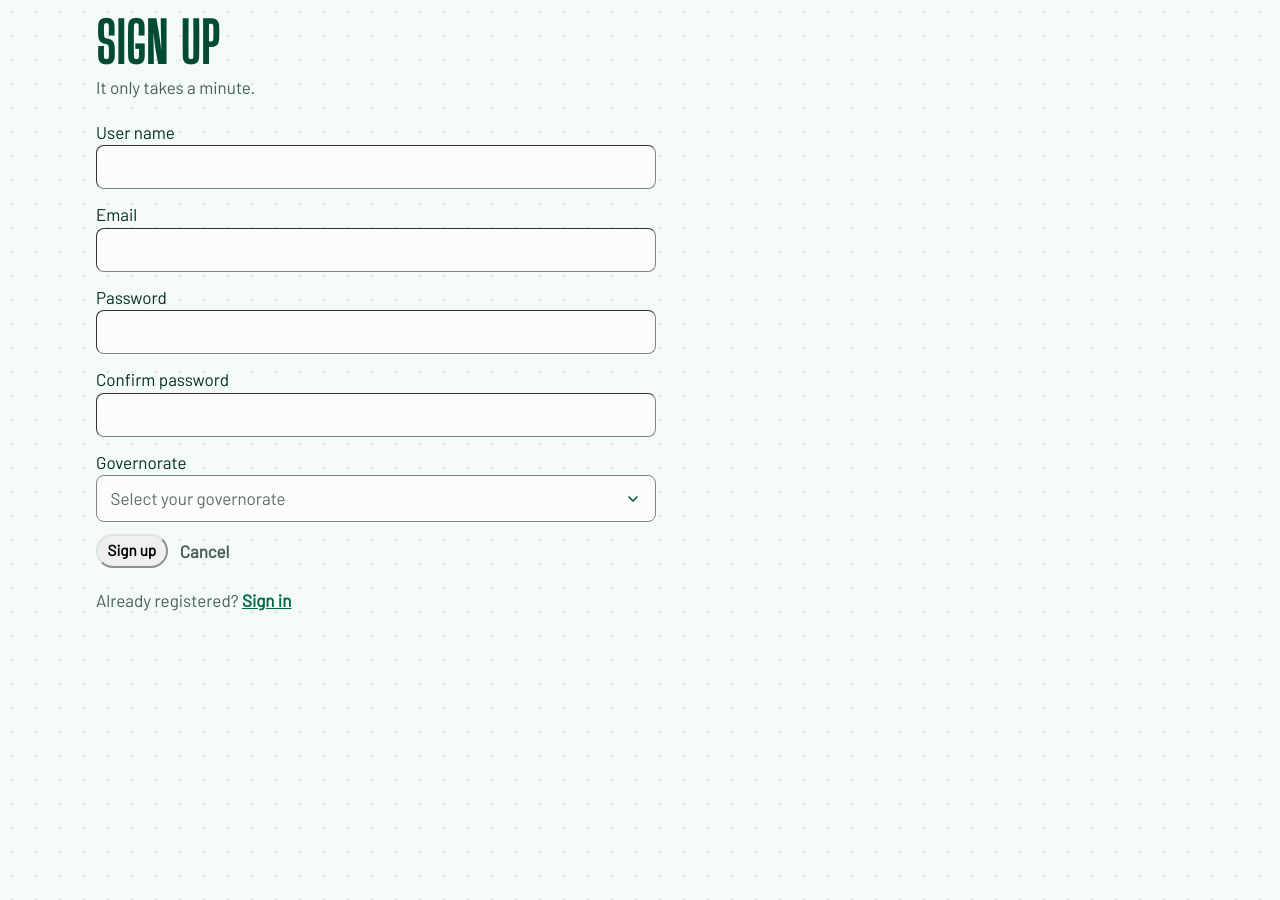
Test: backend-compatible authentication forms › checks confirmation before issuing a signup request
Type "Bob" into the field labelled "User name".
click(376, 168); type("Bob")  # box [96,146,656,190]
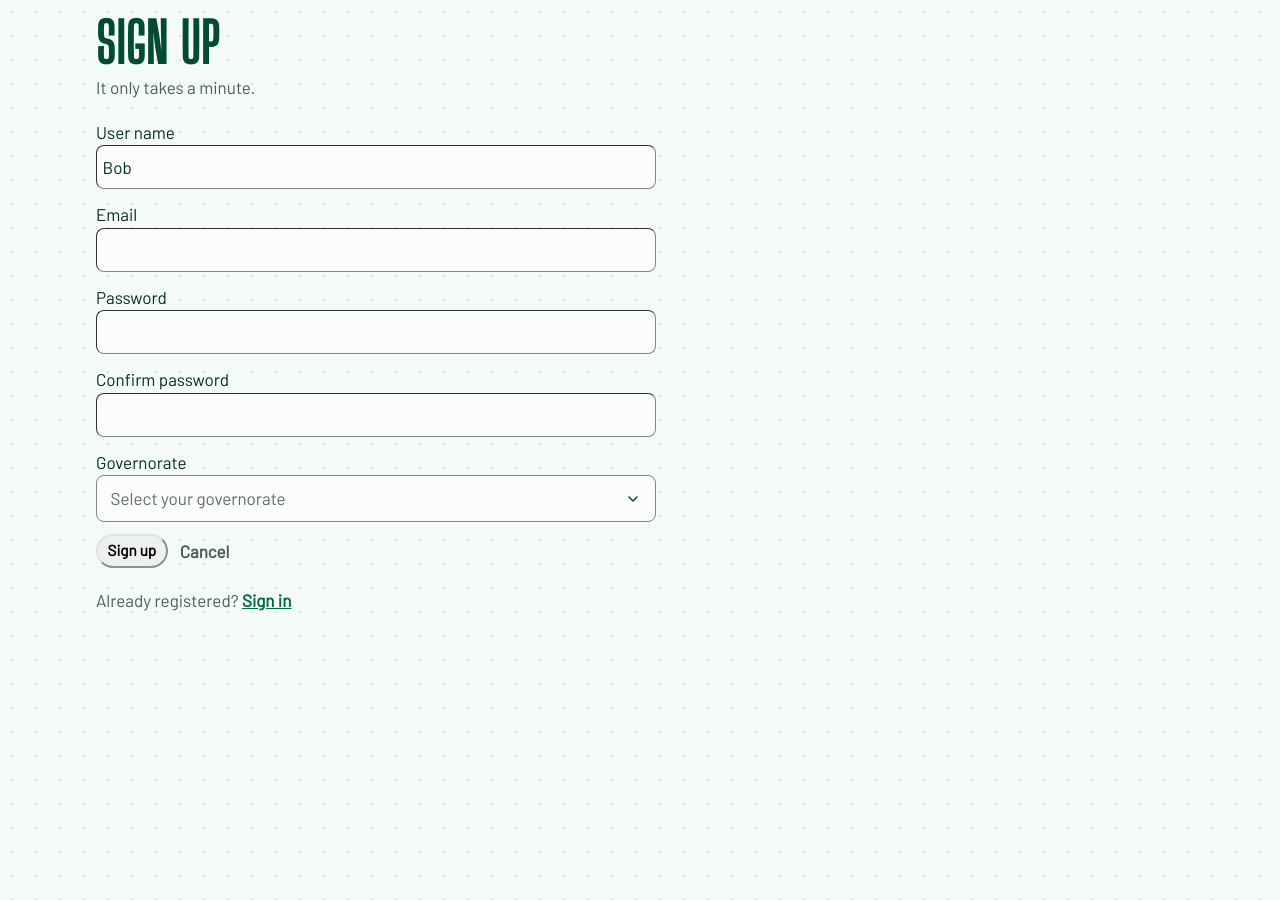
Type "bob@example.test" into the field labelled "Email".
click(376, 250); type("bob@example.test")  # box [96,228,656,272]
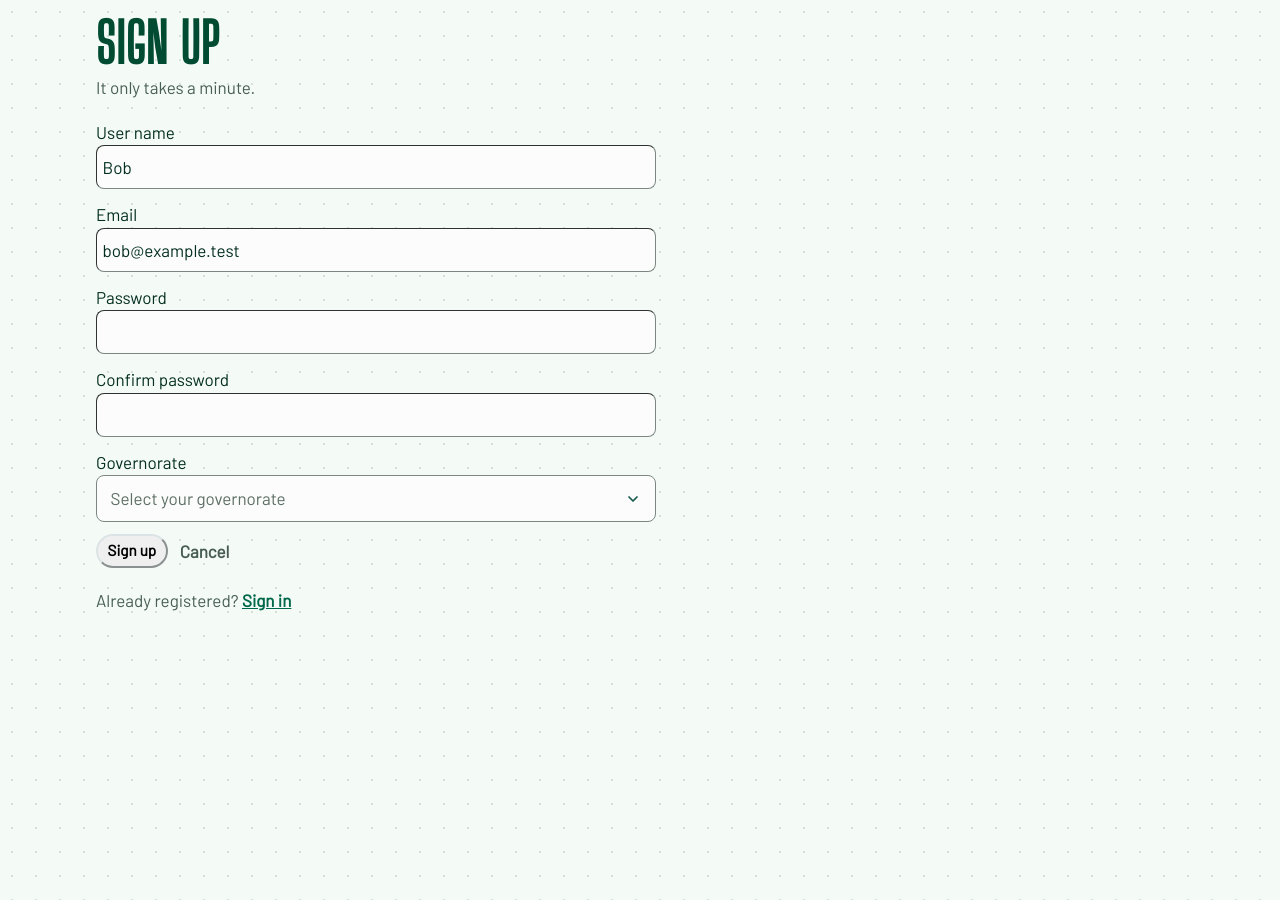
Type "TestPass123!" into the password field labelled "Password".
click(376, 332); type("TestPass123!")  # box [96,310,656,354]
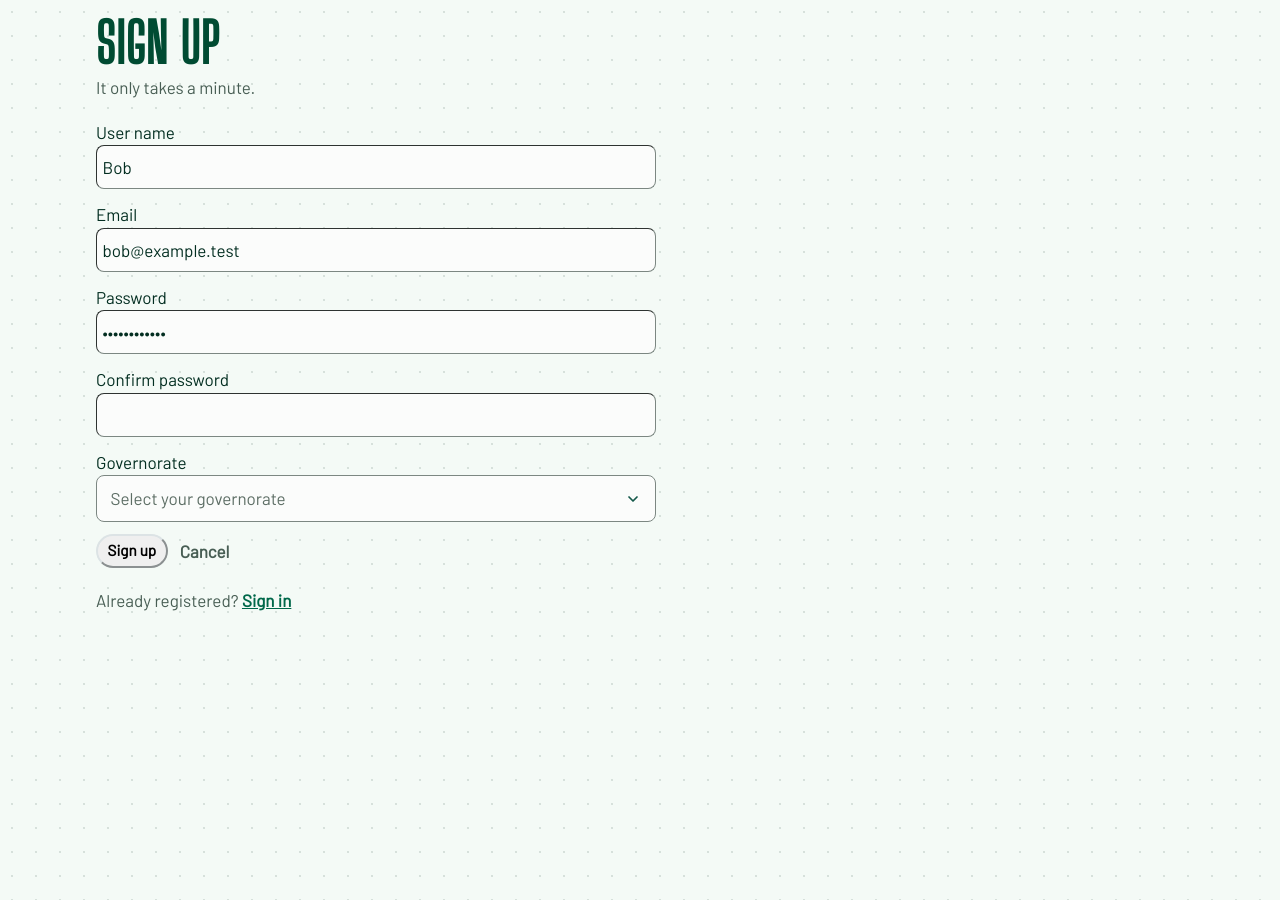
Type "Different123!" into the password field labelled "Confirm password".
click(376, 414); type("Different123!")  # box [96,392,656,436]
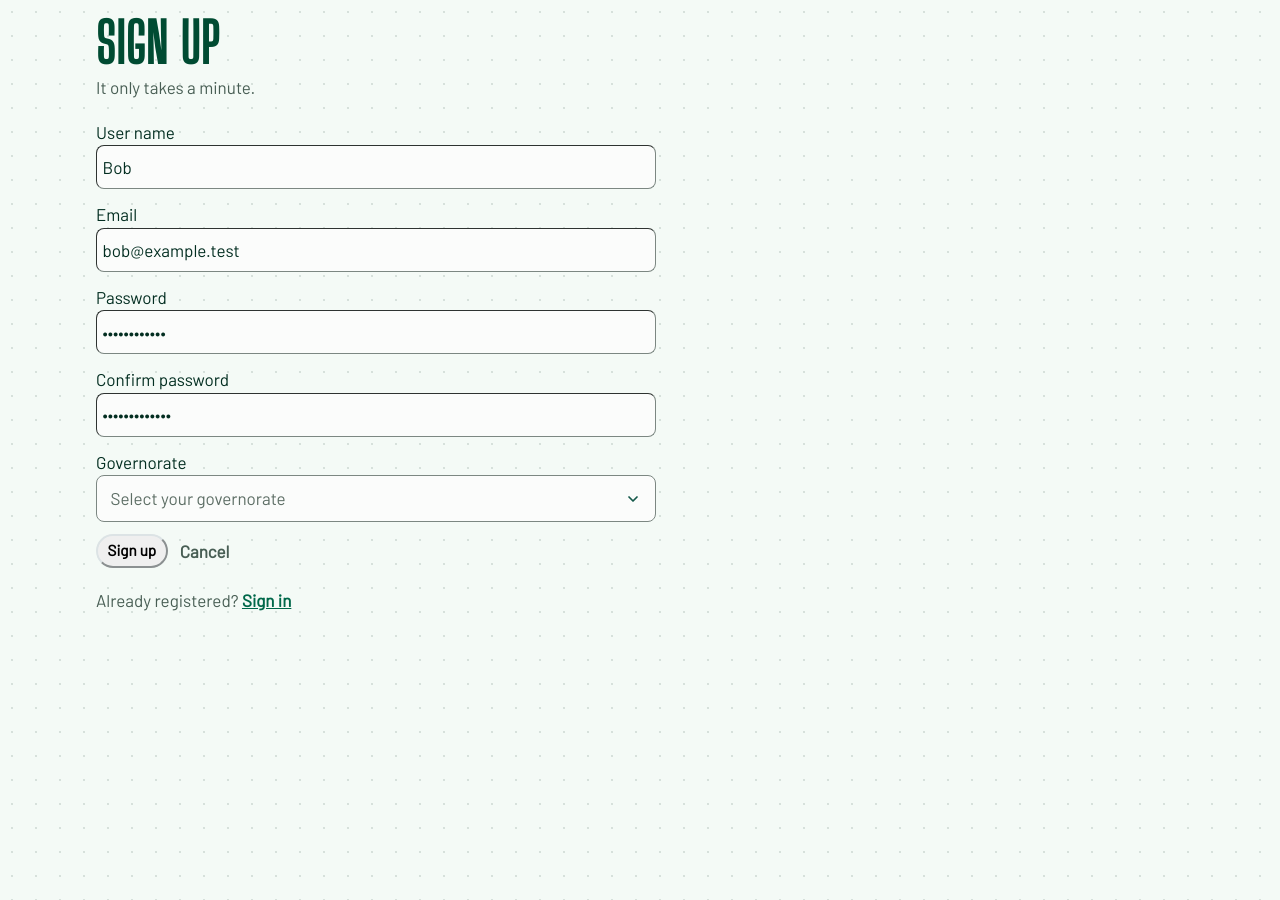
Select "Capital" in the dropdown labelled "Governorate" at (376,485), box [96,448,656,522]
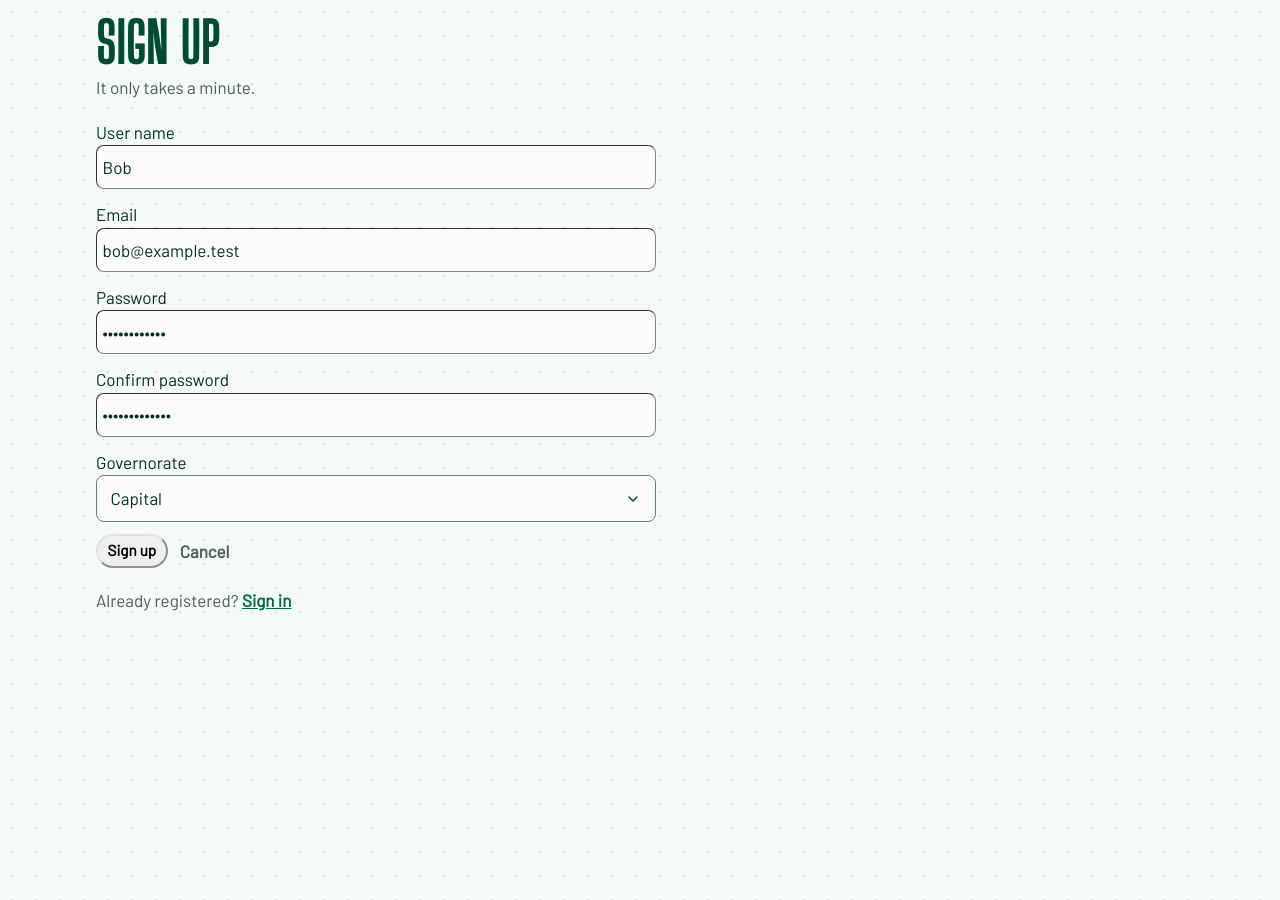
Click the button "Sign up".
click(132, 551)  # box [96,534,168,568]
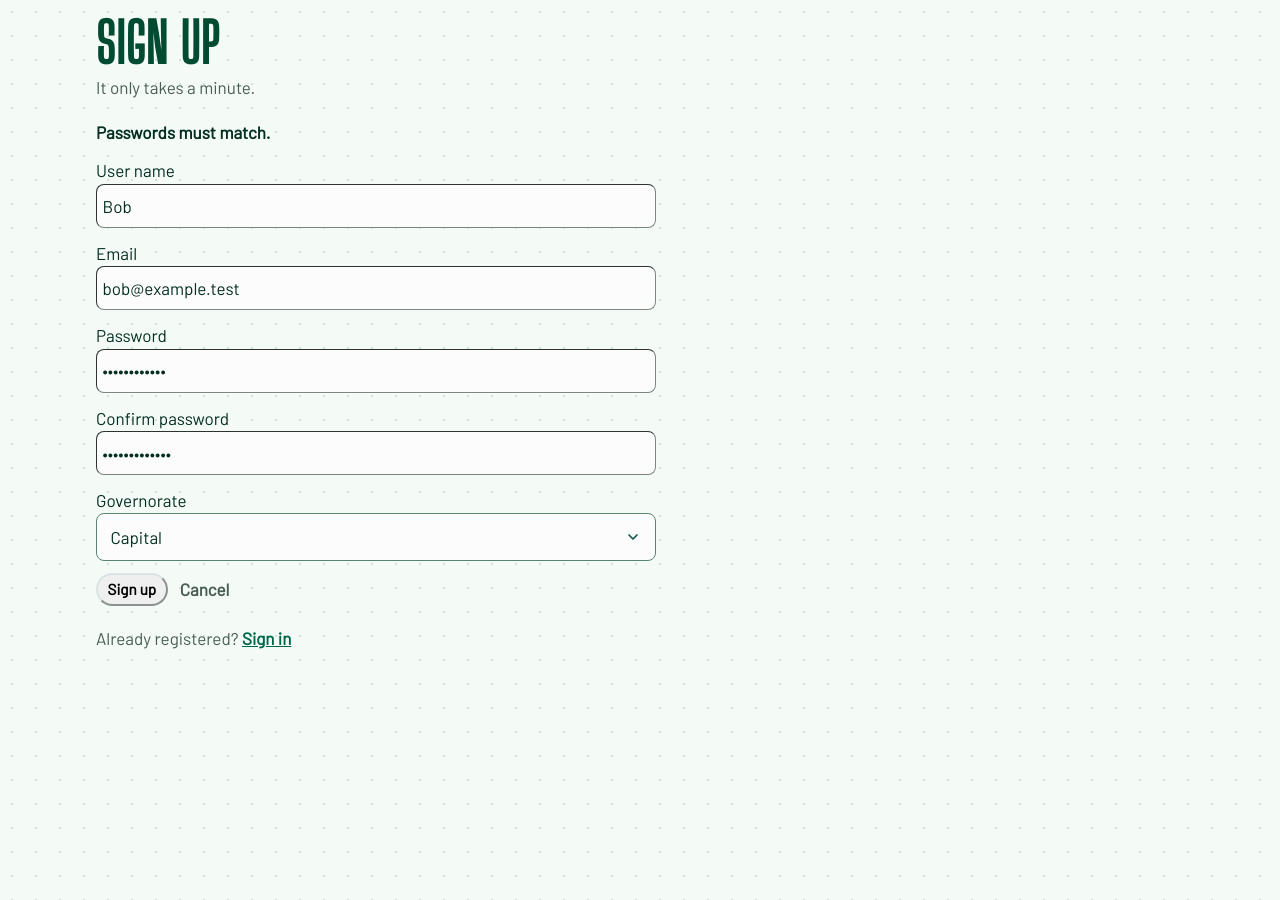
Now the message reads "Passwords must match.", box [96,122,270,142]
